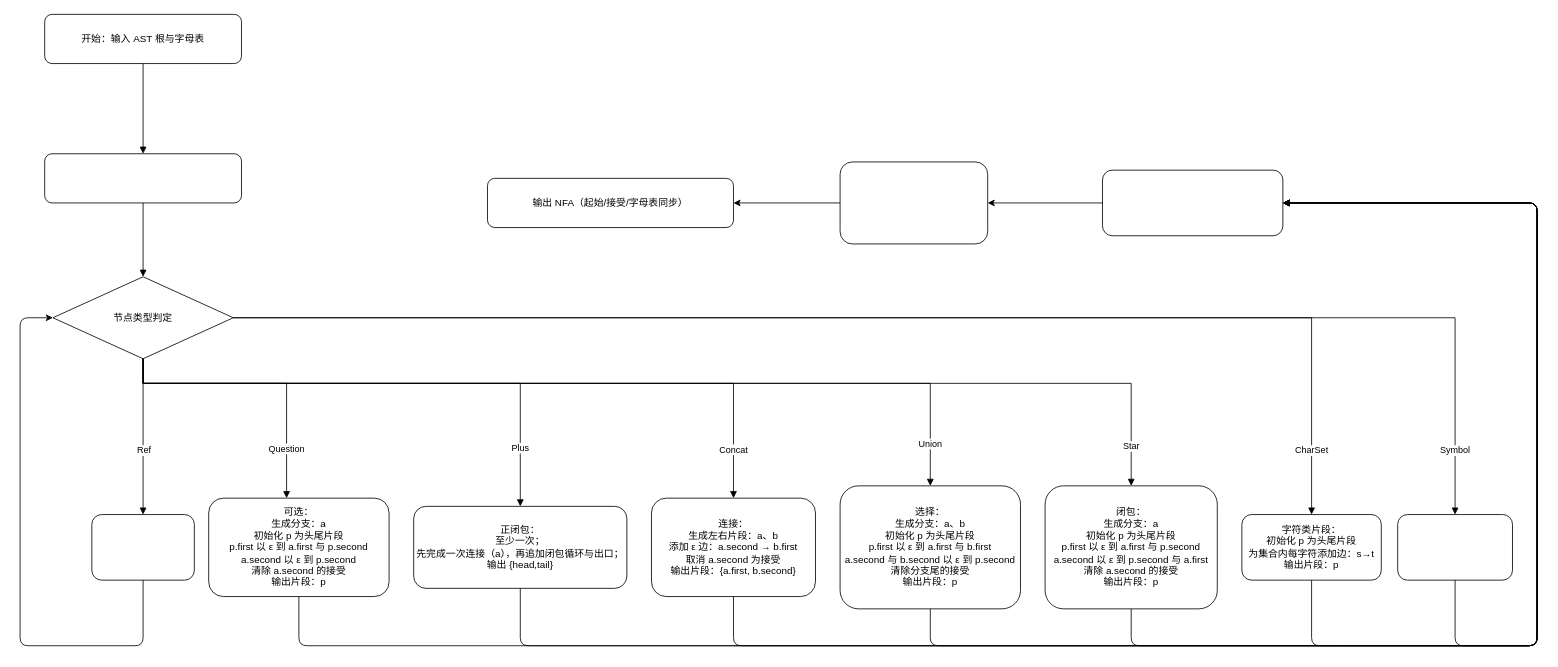
The diagram is 1558 pixels wide and 667 high, and some of its shapes have lost their labels. Each missing label, with the centre of its shape:
"原子片段： 初始化 p 为头尾片段 添加符号边：s→t 输出片段：p" belongs at [1454,547].
"多 Token 合并： globalStart 以 ε 引入各片段头 通过偏移映射统一编号" belongs at [913,202].
"引用： 展开为目标 AST； 返回类型判定" belongs at [142,547].
"调用构造：buildFrom(ast)" belongs at [142,178].
"返回片段： 包含 first（片段头）与 second（片段尾）" belongs at [1192,202].
